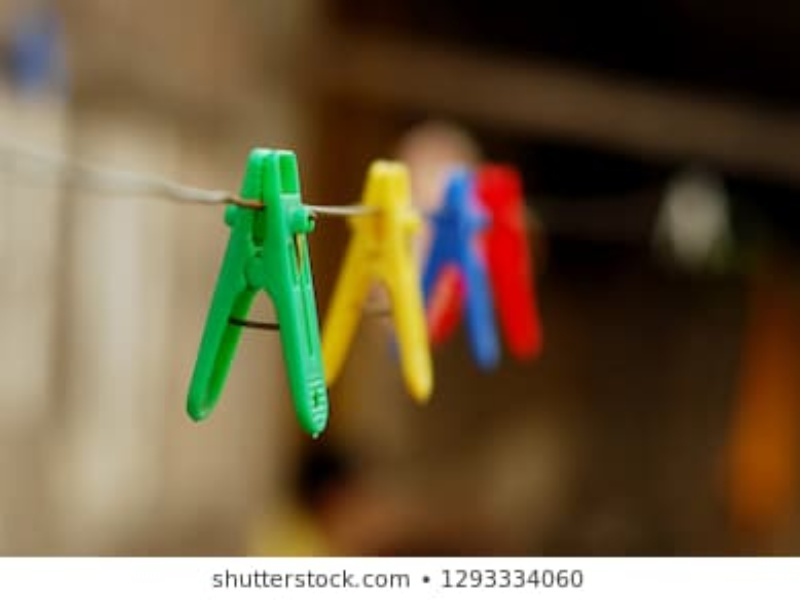plastic-peg: (183, 145, 338, 438), (321, 156, 435, 410), (429, 171, 546, 361)
